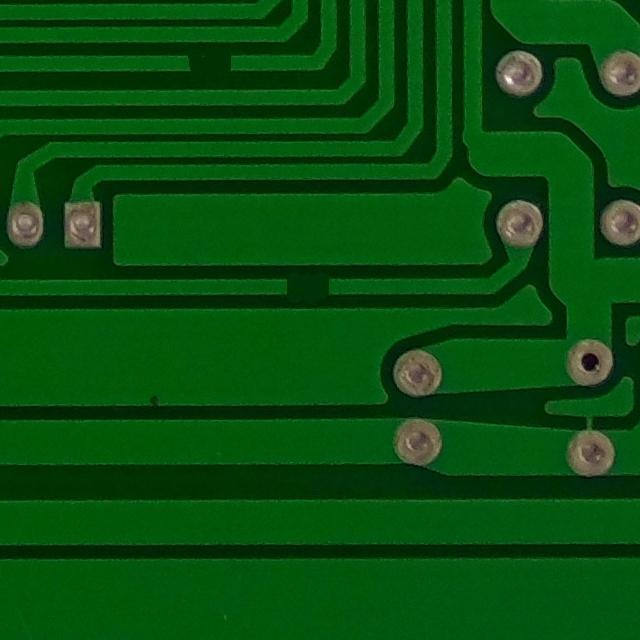open_circuit: (173, 46, 245, 78), (276, 270, 341, 302)
